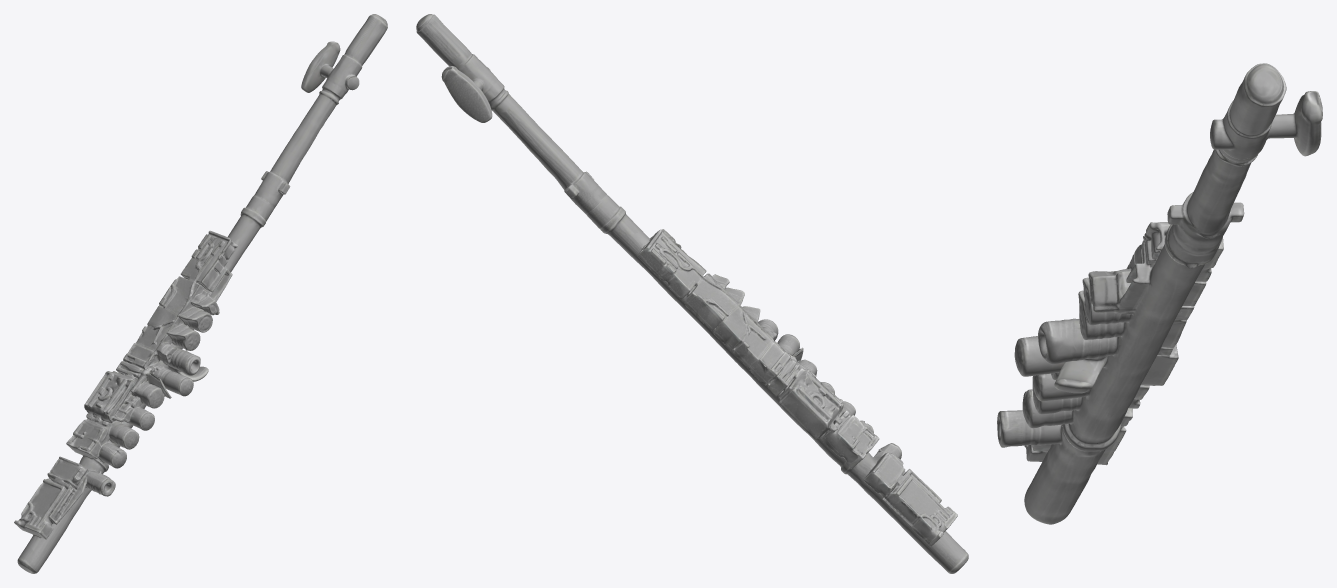
The model's file is flauta.glb.
3 renders of one model, left to right at view 1: azimuth 30°, elevation 25°; view 2: azimuth 150°, elevation 25°; view 3: azimuth 270°, elevation 25°, orthographic. The views are drawn at different scales.
Parts seen in each view (by area): view 1: tripo_node_f8d157ee-cbb5-4475-a37d-d61dc50ed284; view 2: tripo_node_f8d157ee-cbb5-4475-a37d-d61dc50ed284; view 3: tripo_node_f8d157ee-cbb5-4475-a37d-d61dc50ed284.
Part boxes in pixels (x1=…): tripo_node_f8d157ee-cbb5-4475-a37d-d61dc50ed284: x1=14, y1=14, x2=387, y2=573; tripo_node_f8d157ee-cbb5-4475-a37d-d61dc50ed284: x1=416, y1=14, x2=968, y2=573; tripo_node_f8d157ee-cbb5-4475-a37d-d61dc50ed284: x1=997, y1=63, x2=1322, y2=524.
Bounding box in the file's own units: 0.9792 × 0.9414 × 0.3288.
1 material, 1 textured.
